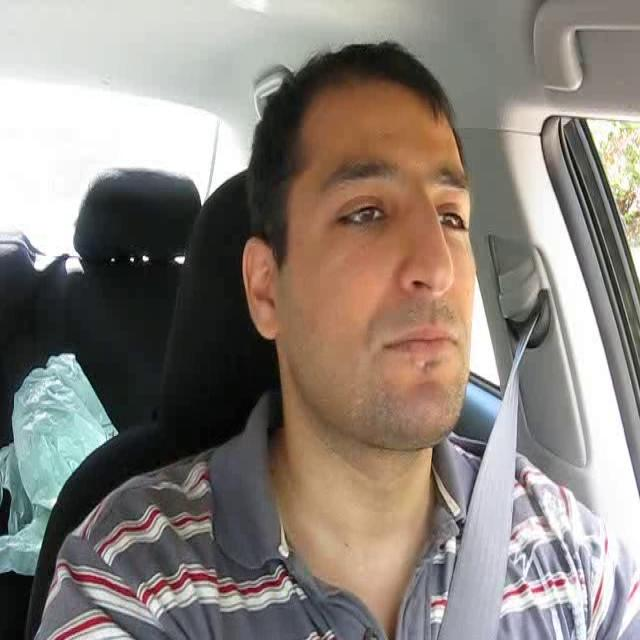close: (377, 317, 464, 365)
